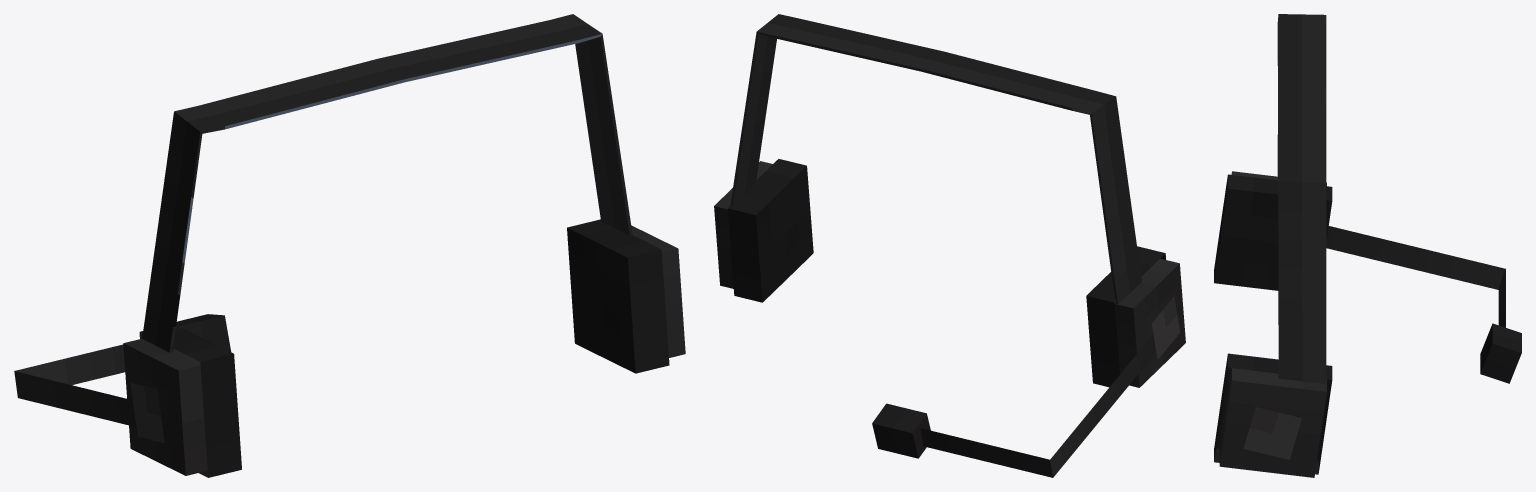
File: headphones.obj
3 views of the same model, side by side, from view 1: azimuth 30°, elevation 25°; view 2: azimuth 150°, elevation 25°; view 3: azimuth 270°, elevation 25° (orthographic). The views are drawn at different scales.
Parts seen in each view (by area): view 1: audio; view 2: audio; view 3: audio.
Boxes of the visible parts, x1,y1,x2,y2 form: audio: (14,14,685,477); audio: (714,14,1185,477); audio: (1214,14,1521,477).
Bounding box in the file's own units: 0.6657 × 0.4465 × 0.4016.
